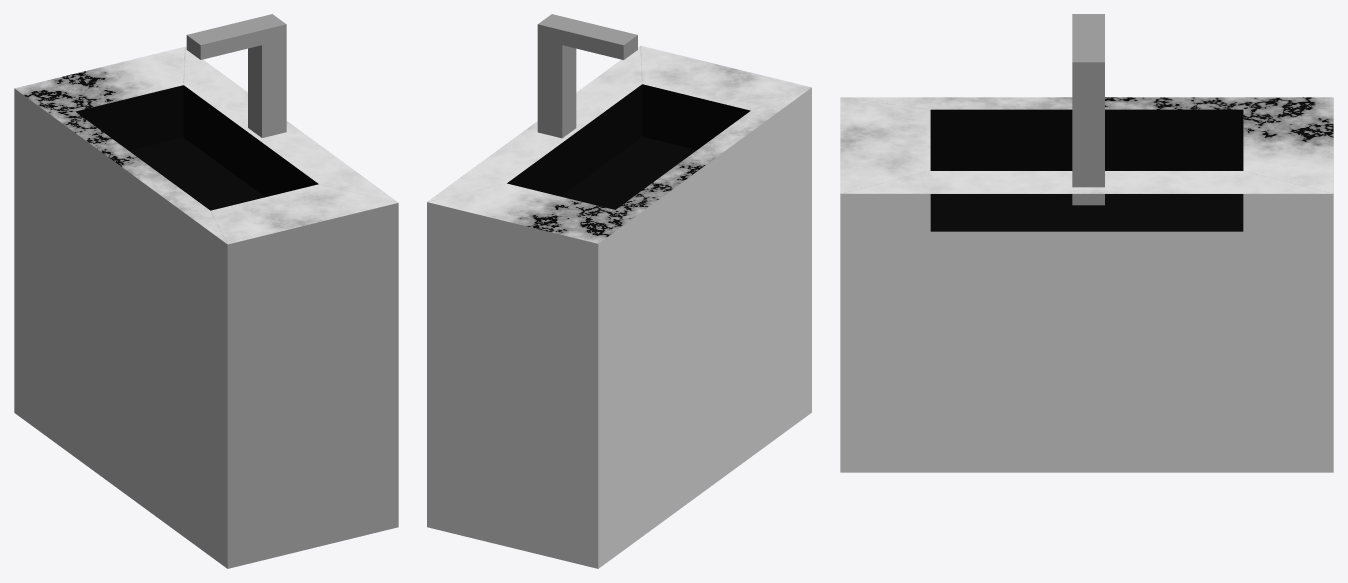
File: sink_01.fbx
The picture shows the model from 3 angles, left to right: view 1: azimuth 30°, elevation 25°; view 2: azimuth 150°, elevation 25°; view 3: azimuth 270°, elevation 25°; orthographic projection. The views are drawn at different scales.
Visible parts, largest first — view 1: polySurface260; view 2: polySurface260; view 3: polySurface260.
Boxes of the visible parts, x1,y1,x2,y2 form: polySurface260: (14, 14, 398, 568); polySurface260: (427, 14, 811, 568); polySurface260: (840, 14, 1333, 472).
Bounding box in the file's own units: 0.4074 × 0.9845 × 0.8801.
4 materials, 1 textured.
